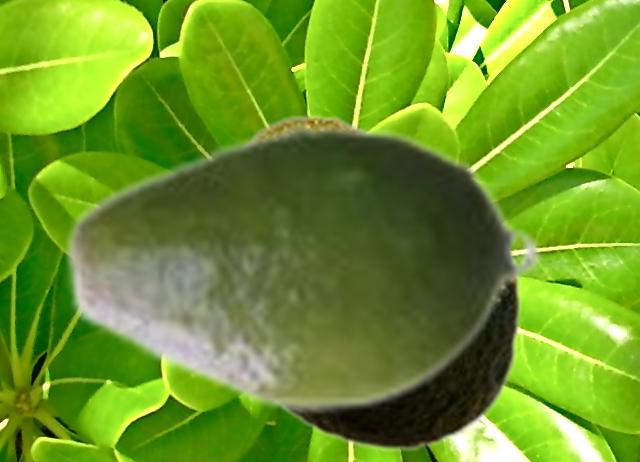avocado: (60, 117, 544, 417), (245, 113, 522, 452)
